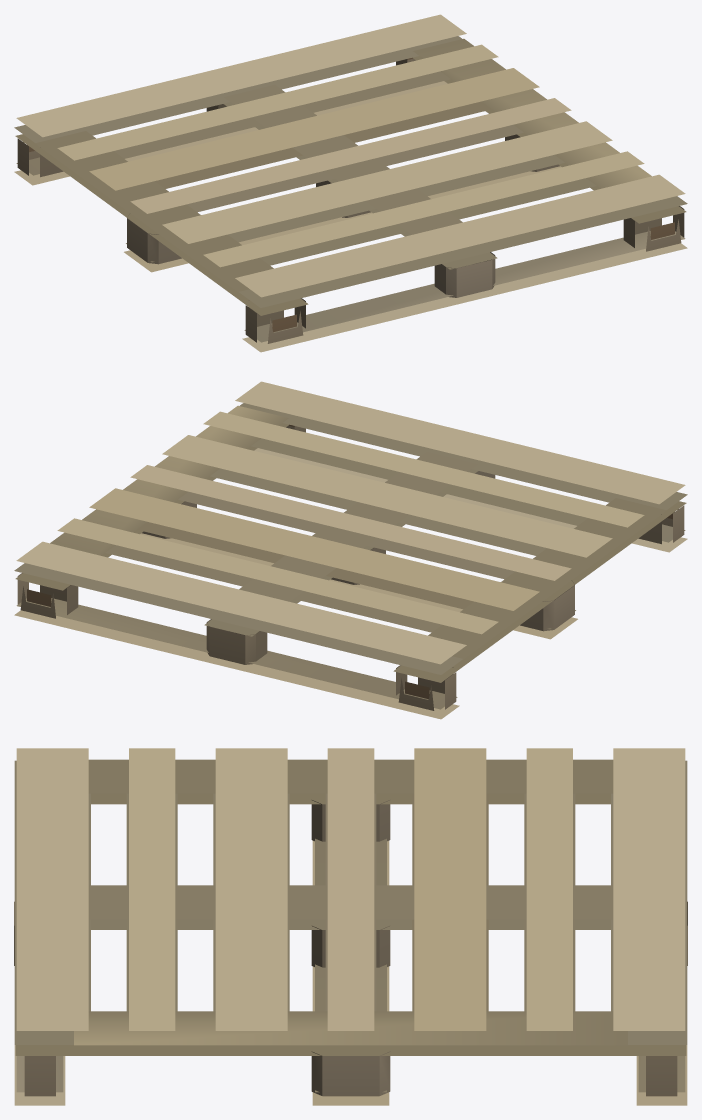
Rendered from pallet.lod.glb.
3 views of the same model, one above another, from view 1: azimuth 30°, elevation 25°; view 2: azimuth 150°, elevation 25°; view 3: azimuth 270°, elevation 25° (orthographic). The views are drawn at different scales.
Parts seen in each view (by area): view 1: pallet.001; view 2: pallet.001; view 3: pallet.001.
Part boxes in pixels (<box>): pallet.001: <box>14,14,687,352</box>; pallet.001: <box>14,381,687,719</box>; pallet.001: <box>14,748,687,1105</box>.
Size of the model in its own units: 1.2 by 0.144 by 1.19.
